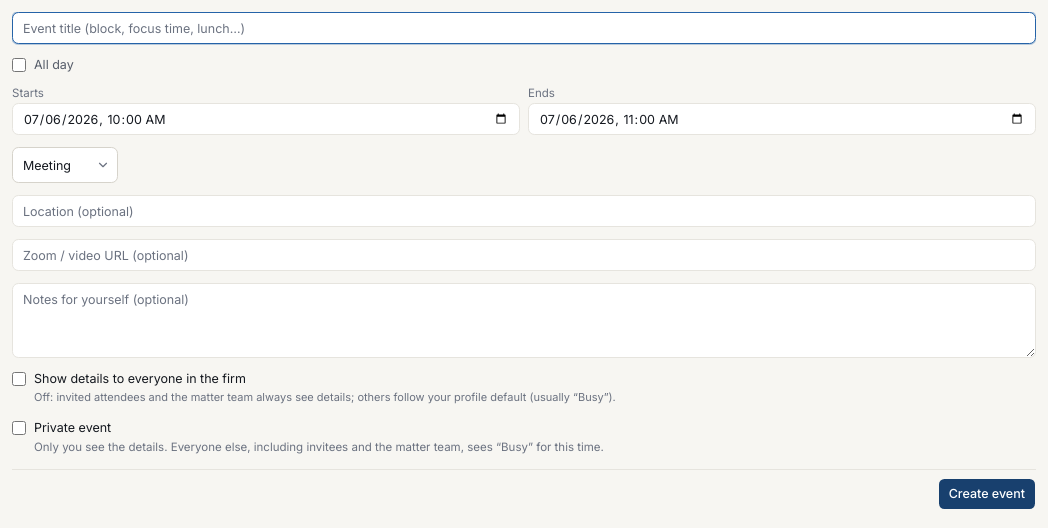
Scenario: NewEventComposer › toggling all-day off after picking dates reseeds 9-10am instead of midnight
Step 1. Click the checkbox labelled "All day" → (19,64), box [12,58,26,72]
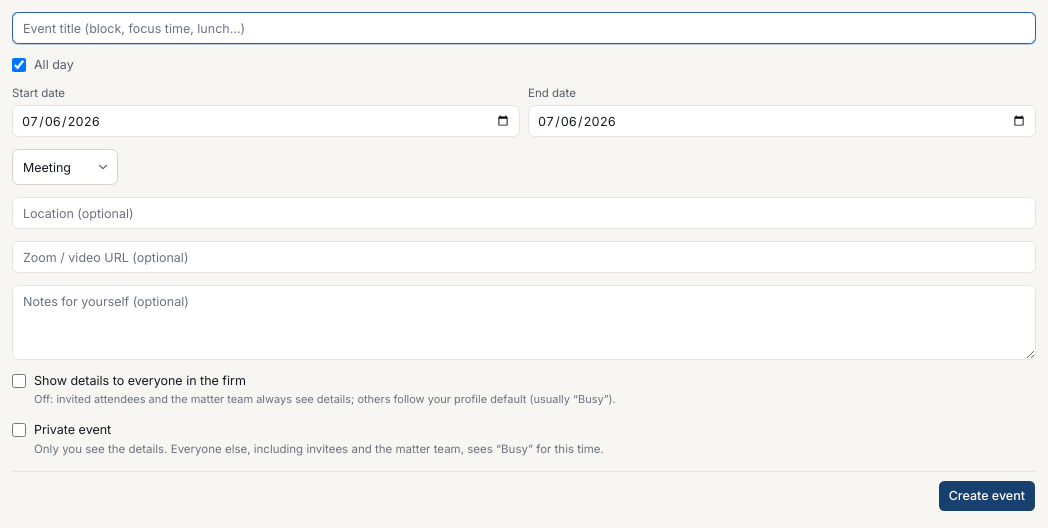
Step 2. Type "2026-07-09" into the date field labelled "Start date" → (266,121), box [12,105,520,137]
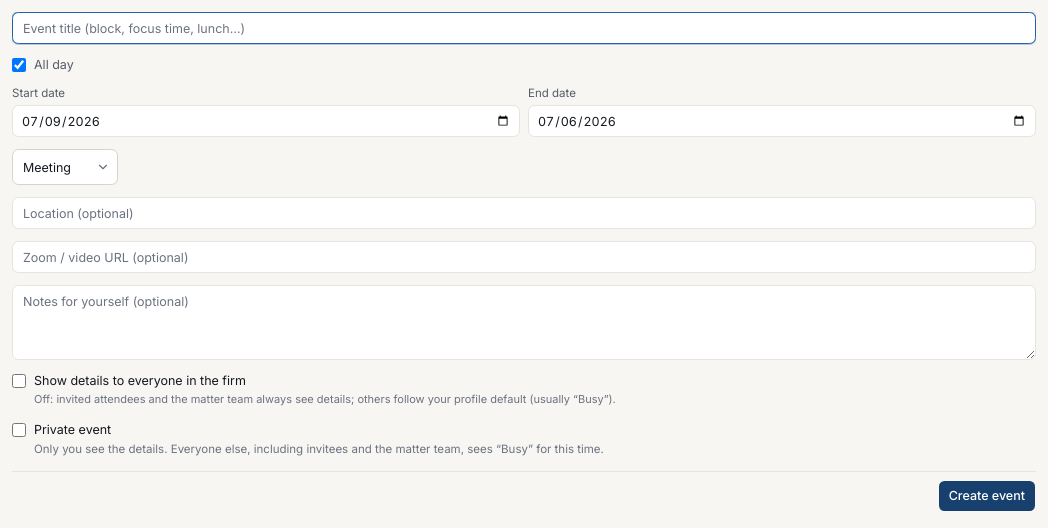
Step 3. Type "2026-07-09" into the date field labelled "End date" → (782,121), box [528,105,1036,137]
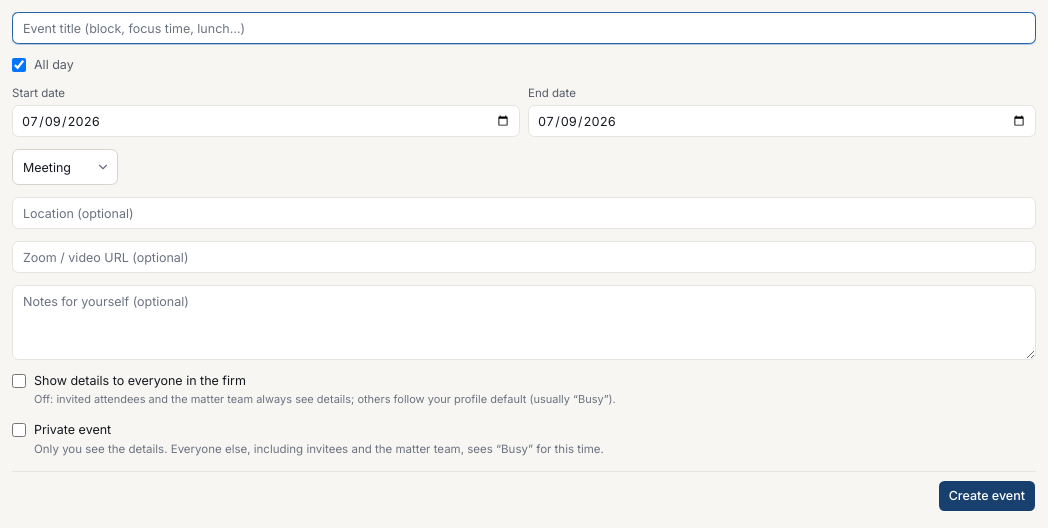
Step 4. Click the checkbox labelled "All day" → (19,64), box [12,58,26,72]
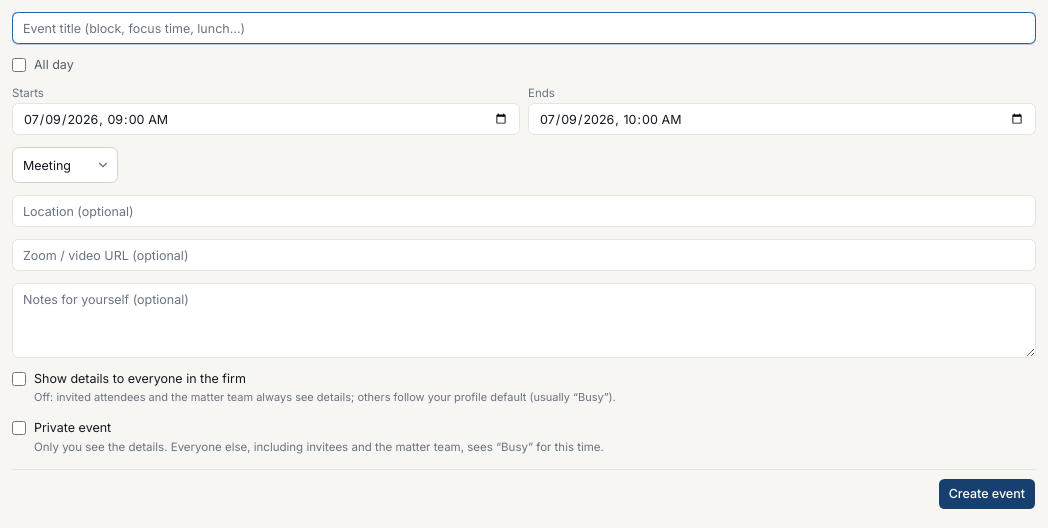
Now the field named "Starts" holds "2026-07-09T09:00", box [12,103,520,135]
Now the field named "Ends" holds "2026-07-09T10:00", box [528,103,1036,135]
